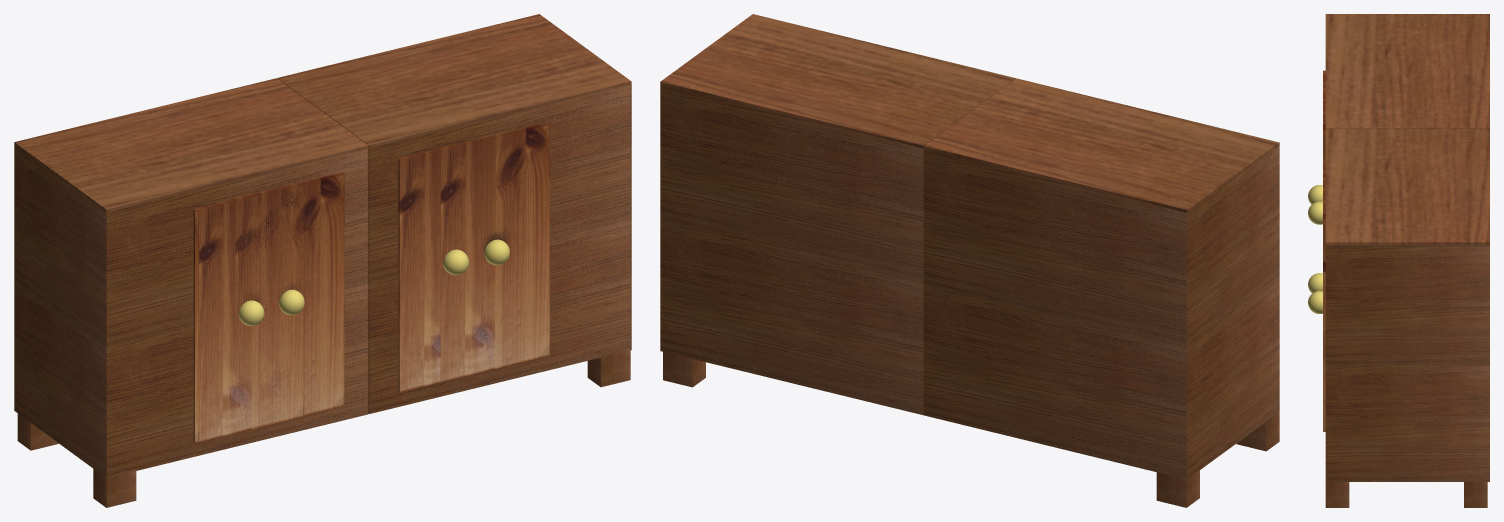
File: MuebleCajones2.fbx
The picture shows the model from 3 angles, left to right: view 1: azimuth 30°, elevation 25°; view 2: azimuth 150°, elevation 25°; view 3: azimuth 270°, elevation 25°; orthographic projection. The views are drawn at different scales.
Parts seen in each view (by area): view 1: Esfera.003; view 2: Esfera.003; view 3: Esfera.003.
Boxes of the visible parts, x1=… form: Esfera.003: x1=14, y1=14, x2=631, y2=507; Esfera.003: x1=660, y1=14, x2=1279, y2=507; Esfera.003: x1=1308, y1=14, x2=1489, y2=507.
Bounding box in the file's own units: 192 × 104 × 64.51.
Materials: 18 (14 with a texture image).
